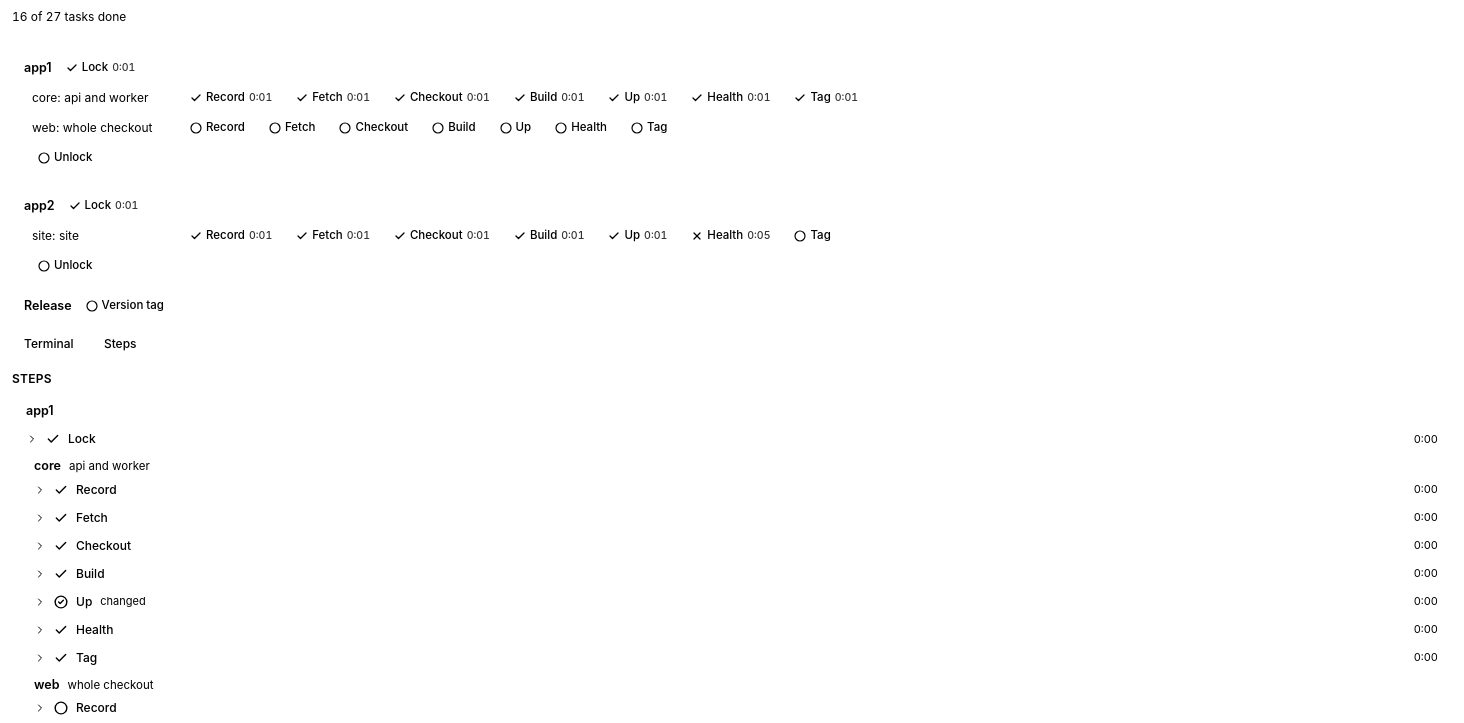
Test: Ansible steps in the release view › picking a step in the pipeline opens its first task
Click the button "Build 0:01" in the row of "core: api and worker" at {"x": 549, "y": 98}, box left=508, top=86, right=590, bottom=110
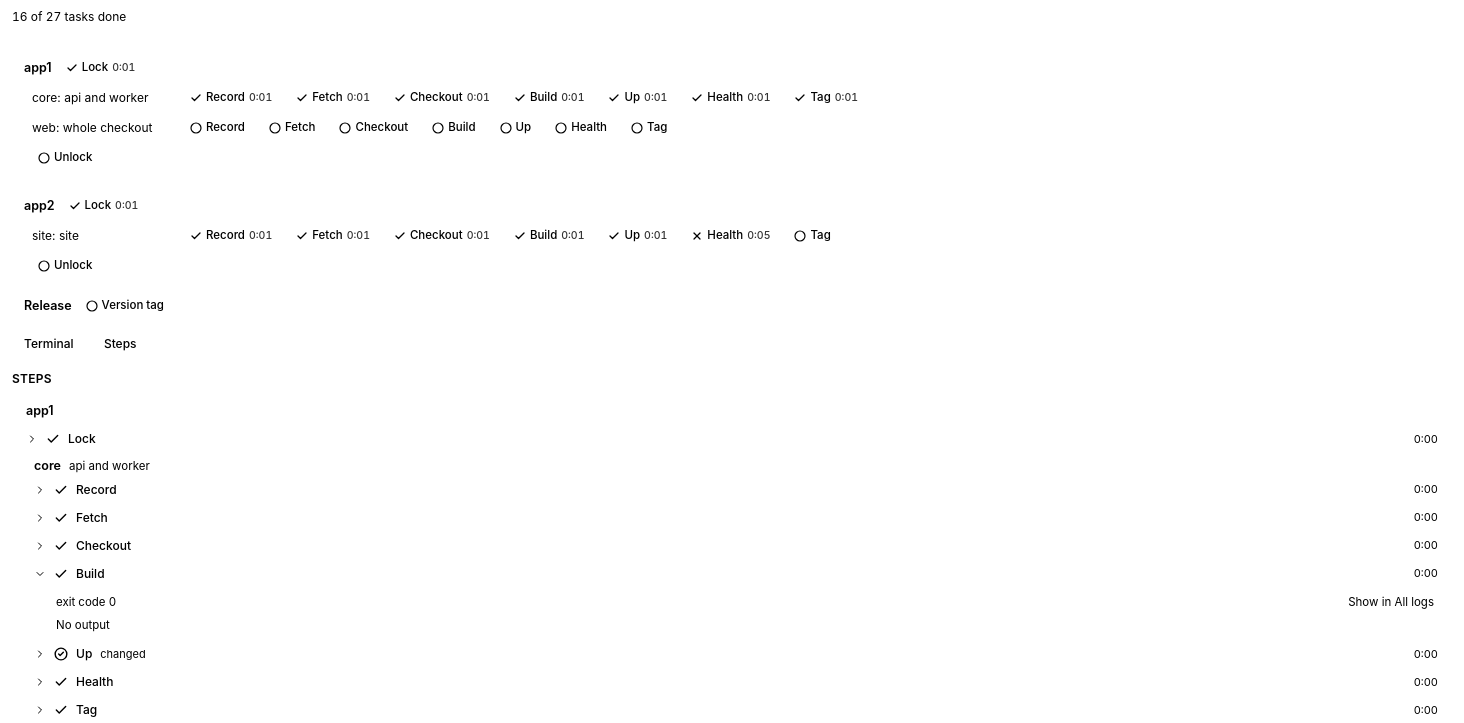
Check: the button with aria-label "Build on app1: done" is shown, box left=28, top=560, right=1444, bottom=588
Click the button "Health 0:05" at {"x": 731, "y": 236}, box left=685, top=224, right=776, bottom=248
(page scrolled)
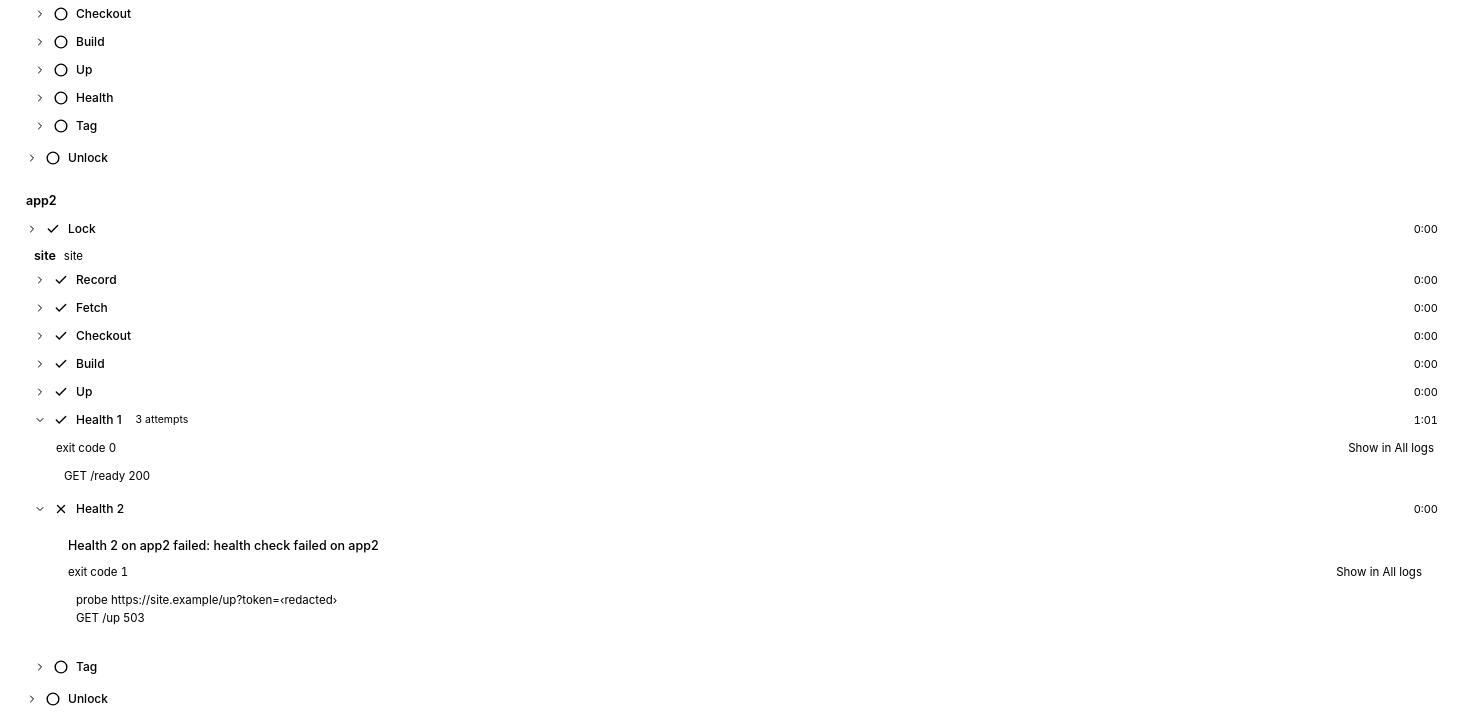
Check: the button with aria-label "Health 1 on app2" is expanded, box left=28, top=406, right=1444, bottom=434
